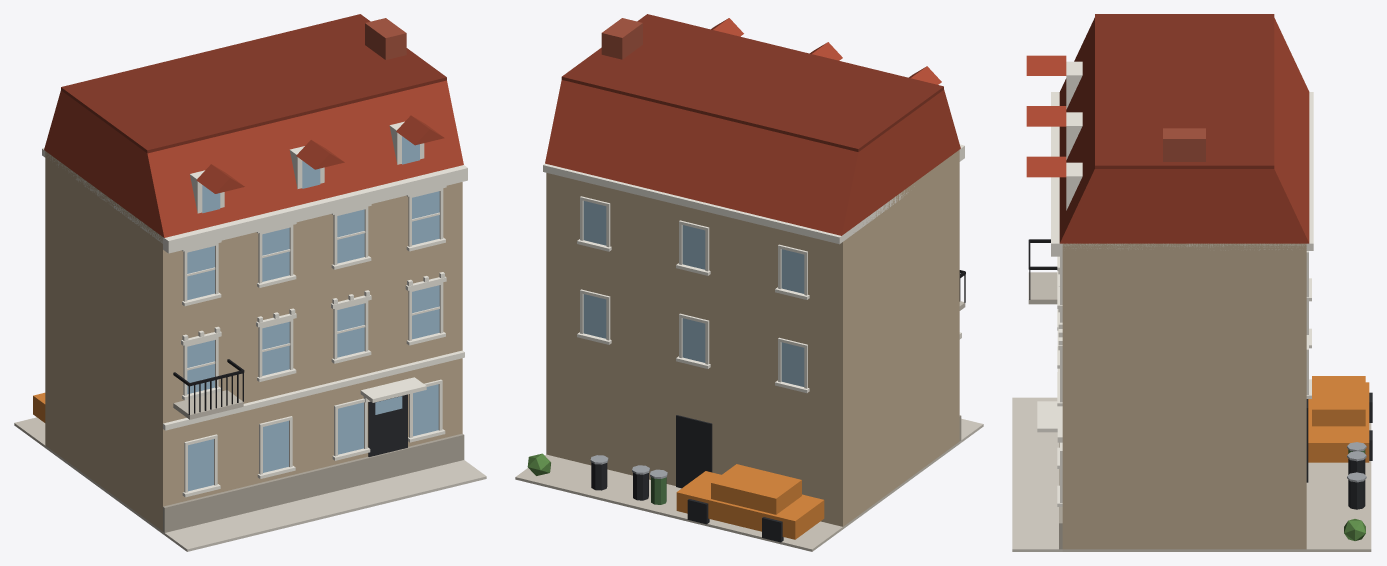
File: Blok_duz_3k_3_Hafif.fbx
The picture shows the model from 3 angles, left to right: view 1: azimuth 30°, elevation 25°; view 2: azimuth 150°, elevation 25°; view 3: azimuth 270°, elevation 25°; orthographic projection. The views are drawn at different scales.
Visible parts, largest first — view 1: Blok_duz_3k_3_Hafif; view 2: Blok_duz_3k_3_Hafif; view 3: Blok_duz_3k_3_Hafif.
Boxes of the visible parts, x1,y1,x2,y2 form: Blok_duz_3k_3_Hafif: (14, 14, 486, 551); Blok_duz_3k_3_Hafif: (515, 14, 983, 551); Blok_duz_3k_3_Hafif: (1012, 14, 1372, 551).
Bounding box in the file's own units: 10 × 12.58 × 10.04.
